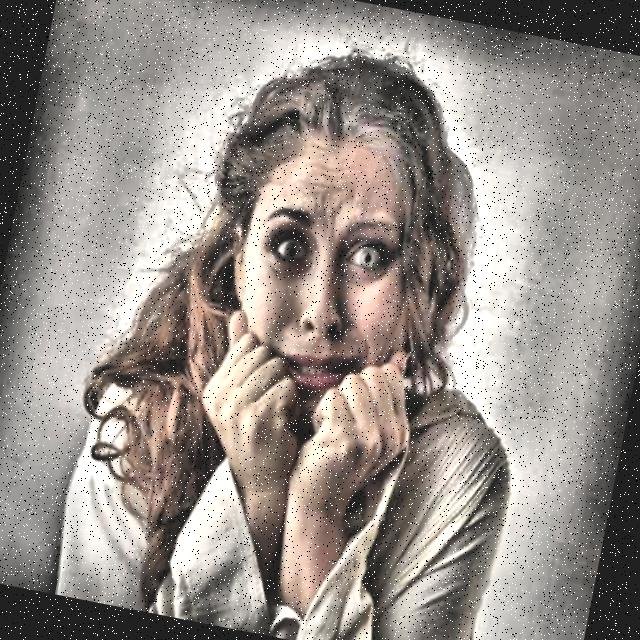fear: (180, 35, 497, 467)
